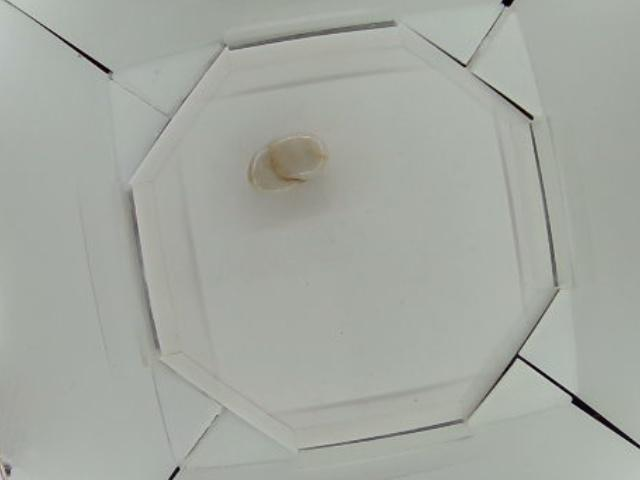Pebble: (244, 128, 325, 200)
